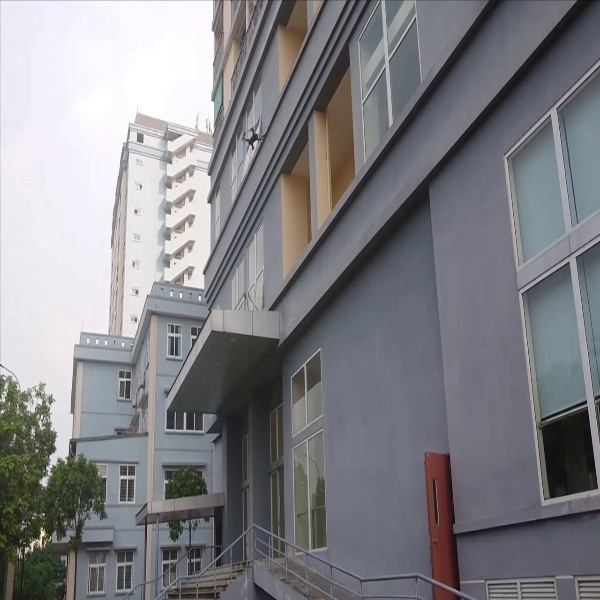drone: (236, 124, 268, 151)
